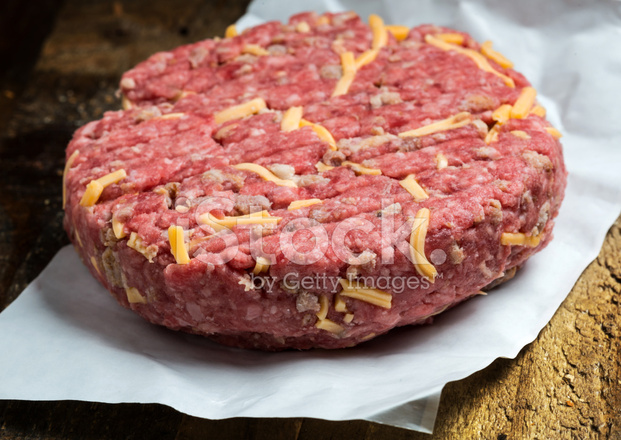ground_beef: (66, 8, 576, 354)
